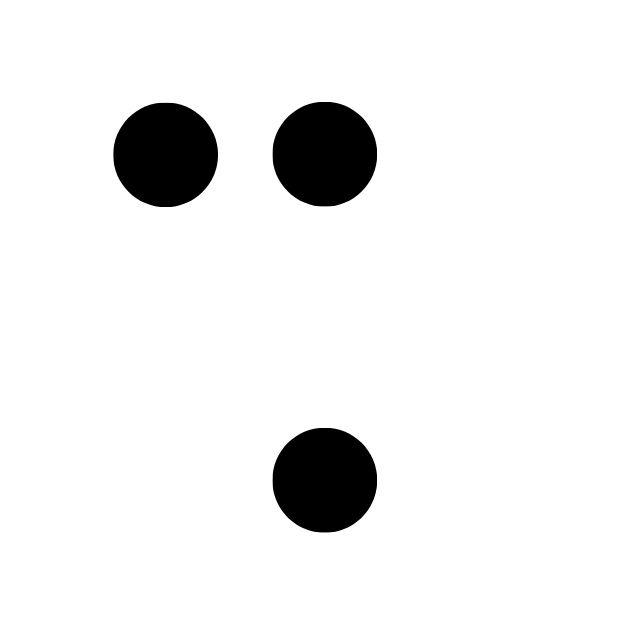mag: (111, 101, 382, 541)
